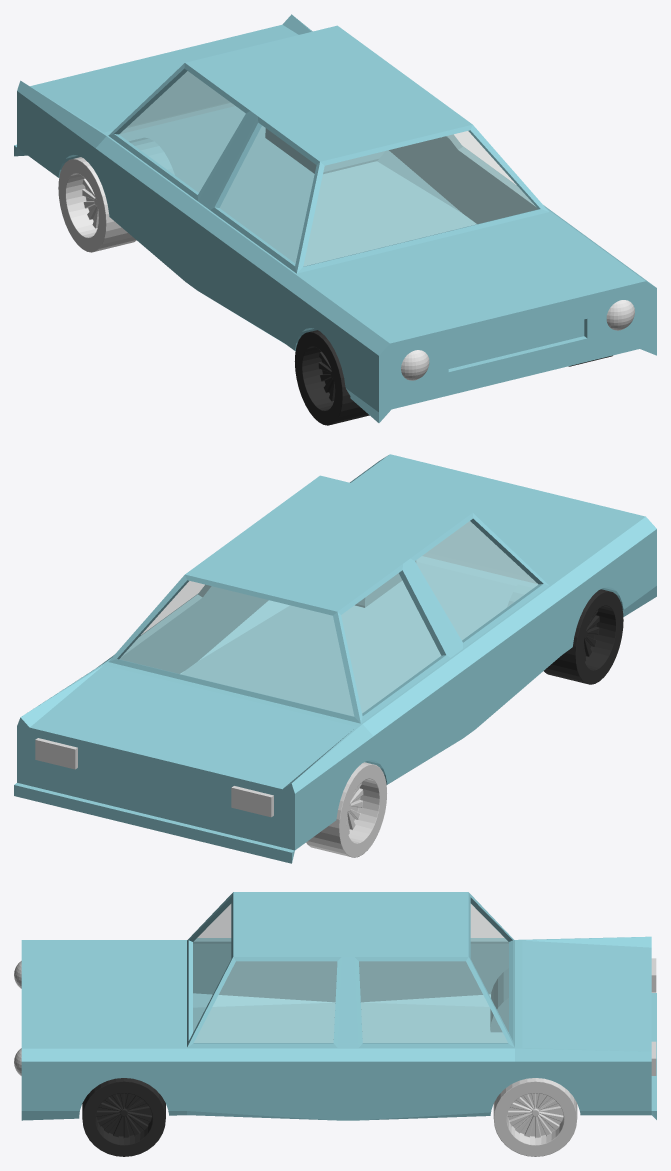
Rendered from carmodel.fbx.
The picture shows the model from 3 angles, top to bottom: view 1: azimuth 30°, elevation 25°; view 2: azimuth 150°, elevation 25°; view 3: azimuth 270°, elevation 25°; orthographic projection. The views are drawn at different scales.
Parts seen in each view (by area): view 1: Cube, Cylinder.003, Cylinder.002, Sphere; view 2: Cube, Cylinder.003, Cylinder.002, Cube.002; view 3: Cube, Cylinder.004, Cylinder.001, Cube.002.
Boxes of the visible parts, bbox=[...] form: Cube: bbox=[14, 14, 656, 422]; Cylinder.003: bbox=[58, 157, 136, 252]; Cylinder.002: bbox=[294, 330, 369, 425]; Sphere: bbox=[401, 300, 634, 380]; Cube: bbox=[14, 454, 656, 863]; Cylinder.003: bbox=[306, 762, 386, 857]; Cylinder.002: bbox=[544, 589, 623, 684]; Cube.002: bbox=[35, 738, 273, 817]; Cube: bbox=[21, 892, 656, 1120]; Cylinder.004: bbox=[493, 1078, 577, 1156]; Cylinder.001: bbox=[82, 1078, 165, 1156]; Cube.002: bbox=[651, 958, 656, 1075].
Size of the model in its own units: 266 by 180 by 606.
